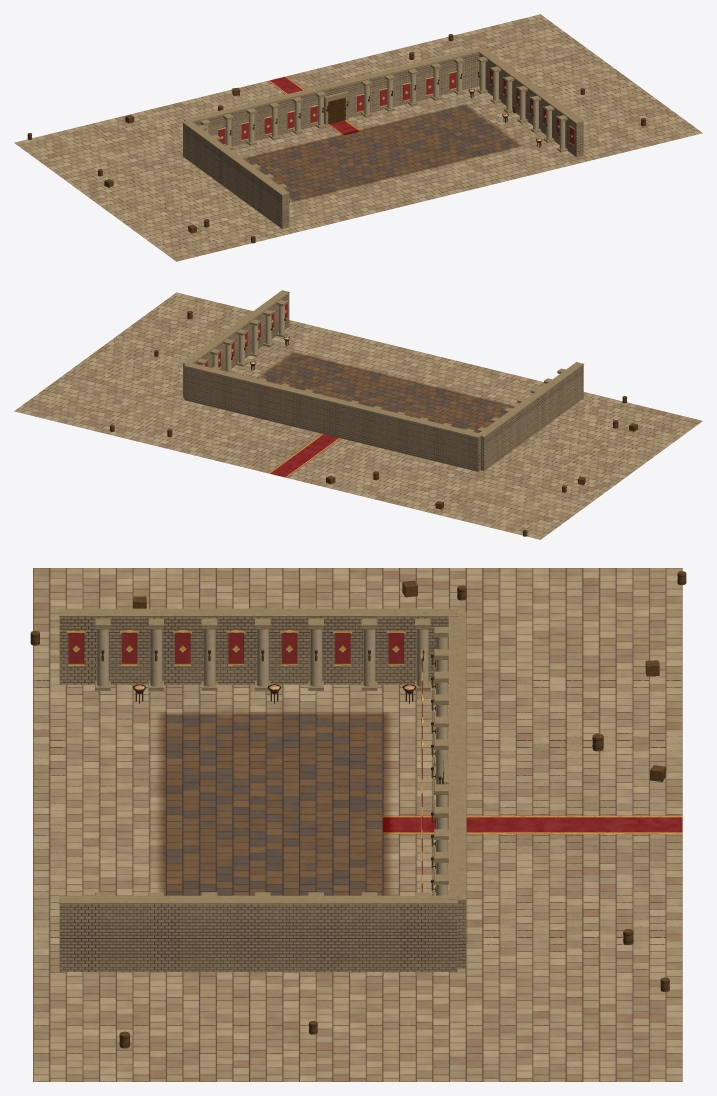
The model's file is surroundings_29x11.glb.
3 renders of one model, top to bottom at view 1: azimuth 30°, elevation 25°; view 2: azimuth 150°, elevation 25°; view 3: azimuth 270°, elevation 25°, orthographic. The views are drawn at different scales.
Parts seen in each view (by area): view 1: ground, props; view 2: ground, props; view 3: ground, props.
Boxes of the visible parts, box(x1,y1,x2,y2) form: ground: box(14, 14, 702, 261); props: box(27, 34, 646, 243); ground: box(14, 292, 702, 539); props: box(110, 290, 637, 536); ground: box(33, 568, 682, 1081); props: box(30, 571, 686, 1048).
Bounding box in the file's own units: 73 × 4.77 × 39.37.
2 materials, 2 textured.
